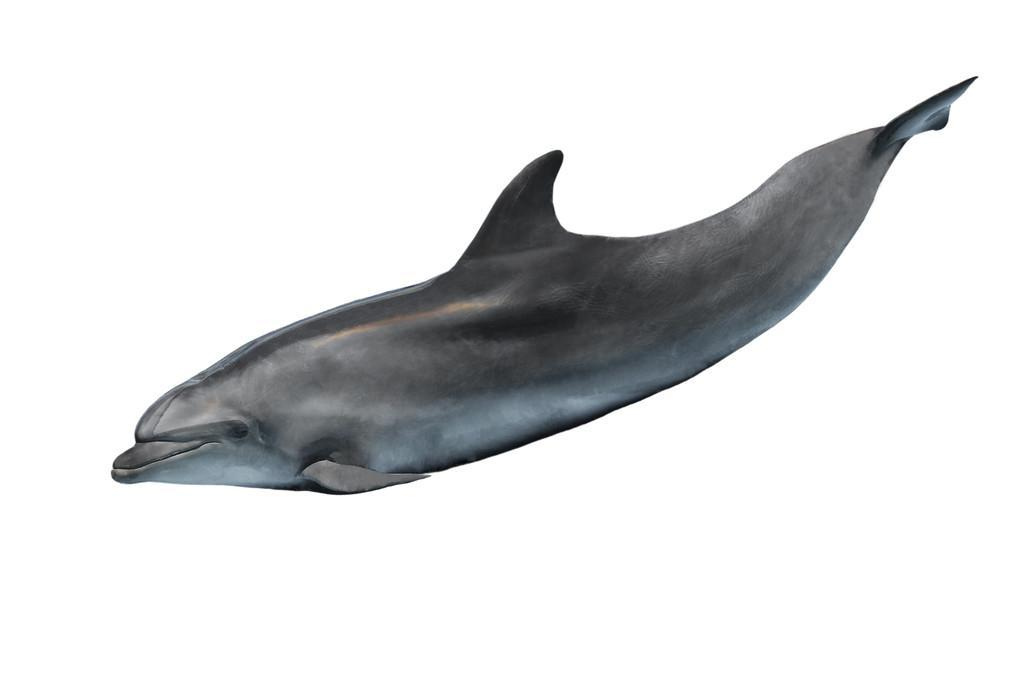fish: (107, 73, 982, 496)
